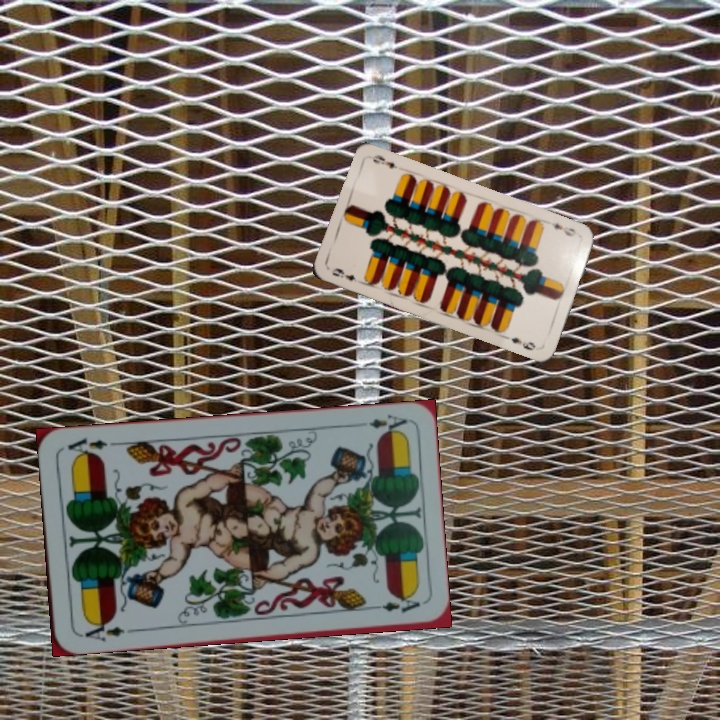E9: (327, 264, 359, 285), (547, 219, 579, 239)
EA: (76, 616, 127, 644), (365, 410, 410, 437)
